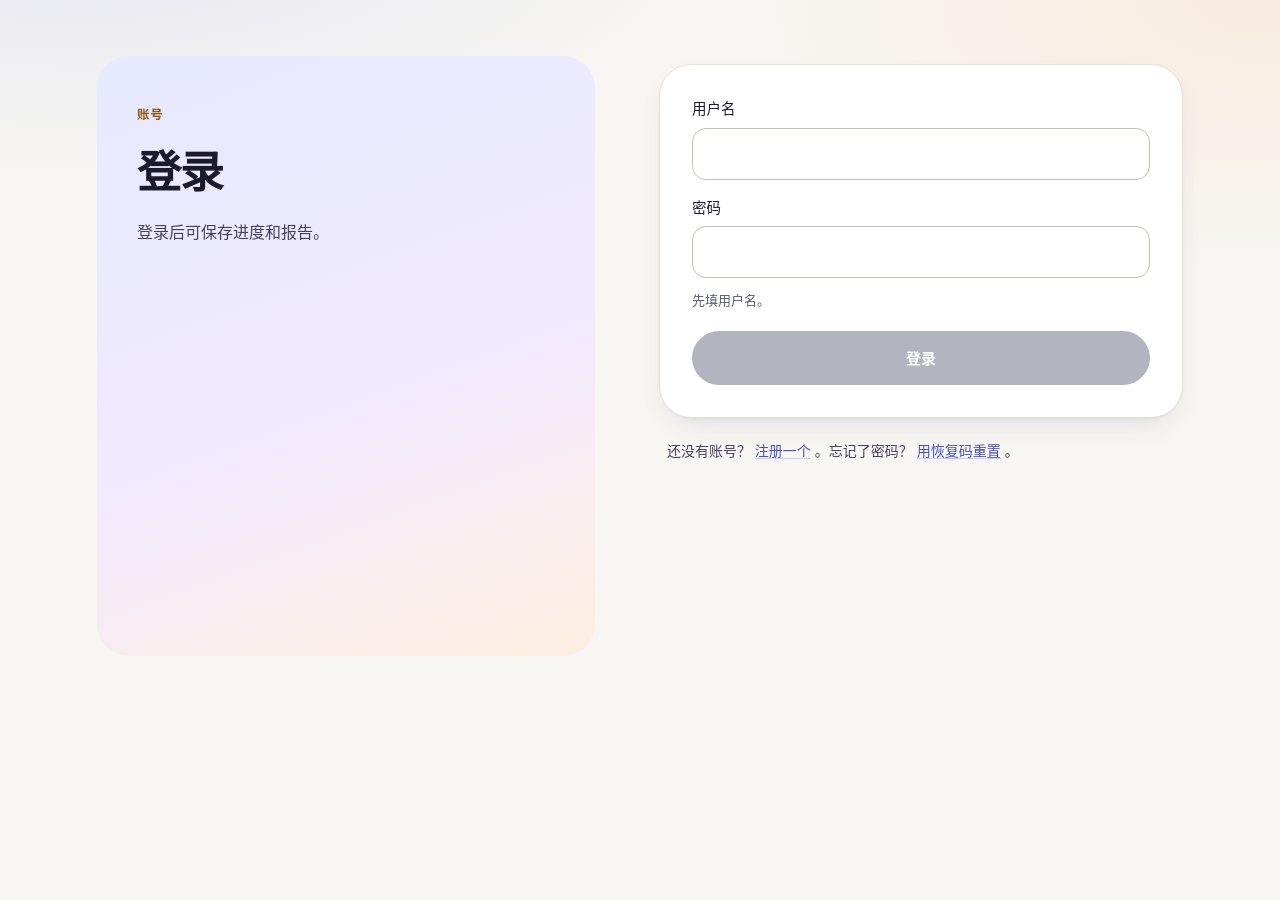
Test: 登录页 / 注册页 · 失败提示可见 › 登录被限流：告诉用户要等多久，而不是毫无反应
In the field named "username": (921, 154) [692,128,1150,180], type "someone"
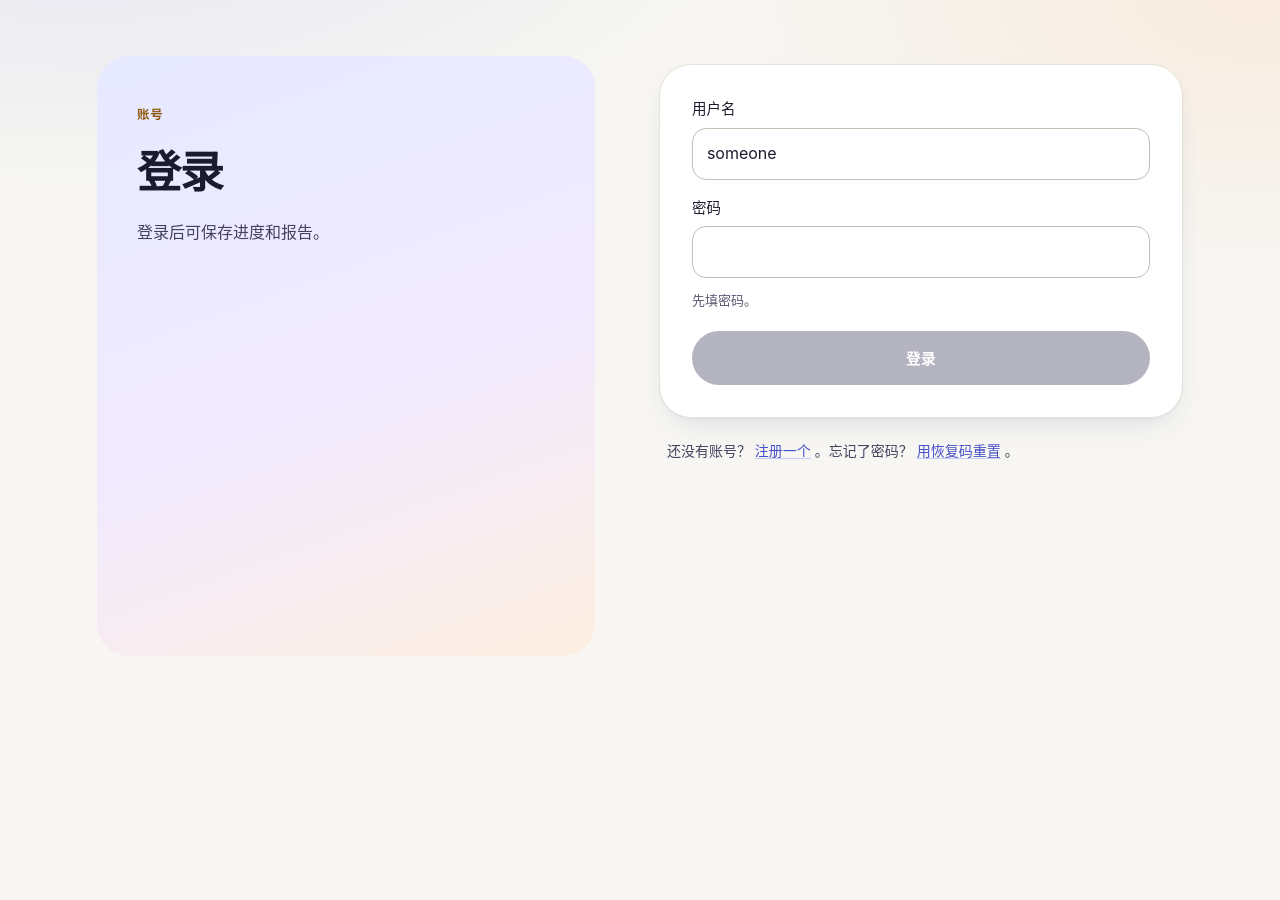
In the password field named "password": (921, 252) [692,226,1150,278], type "whatever-1"
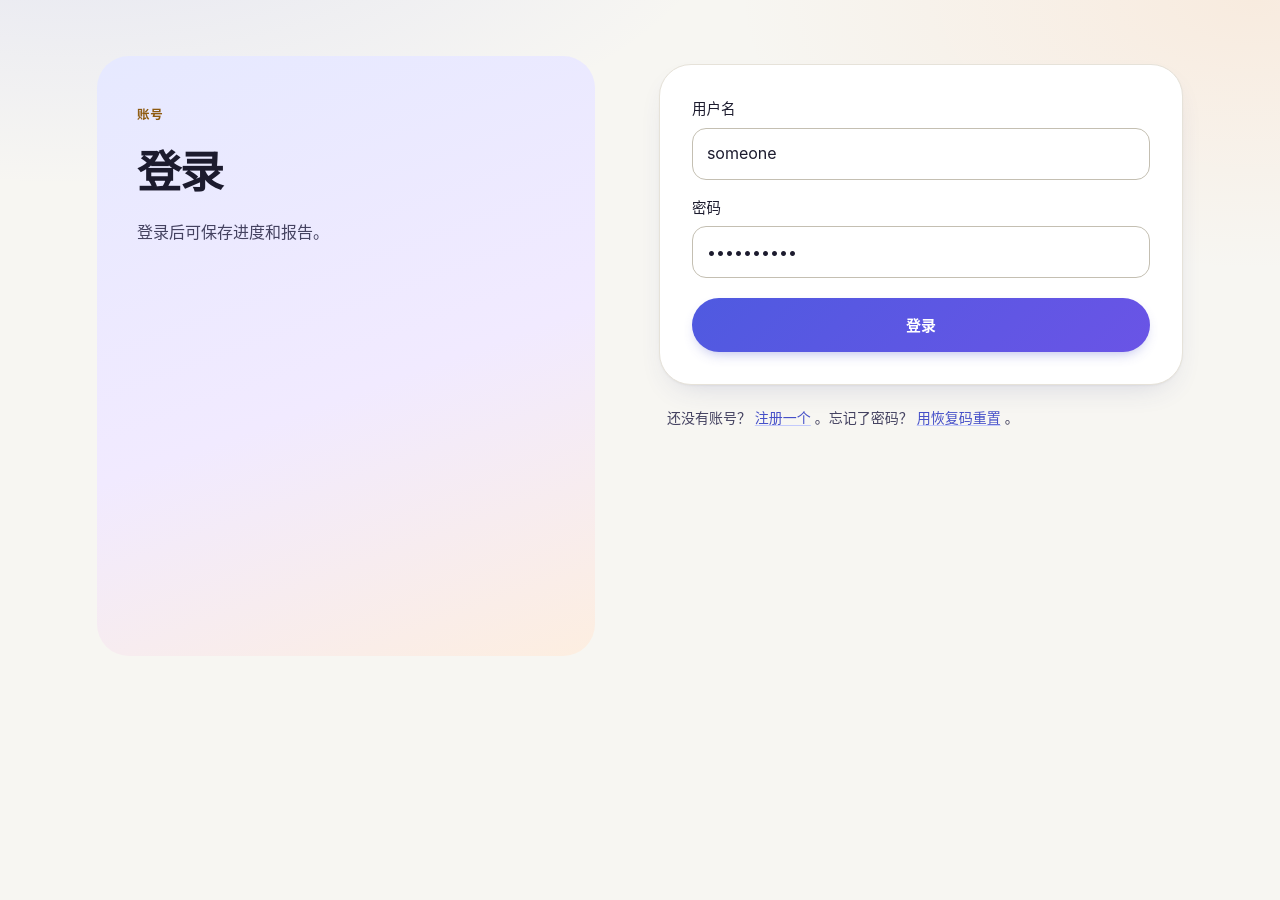
Submit the form, box [659,64,1183,385]
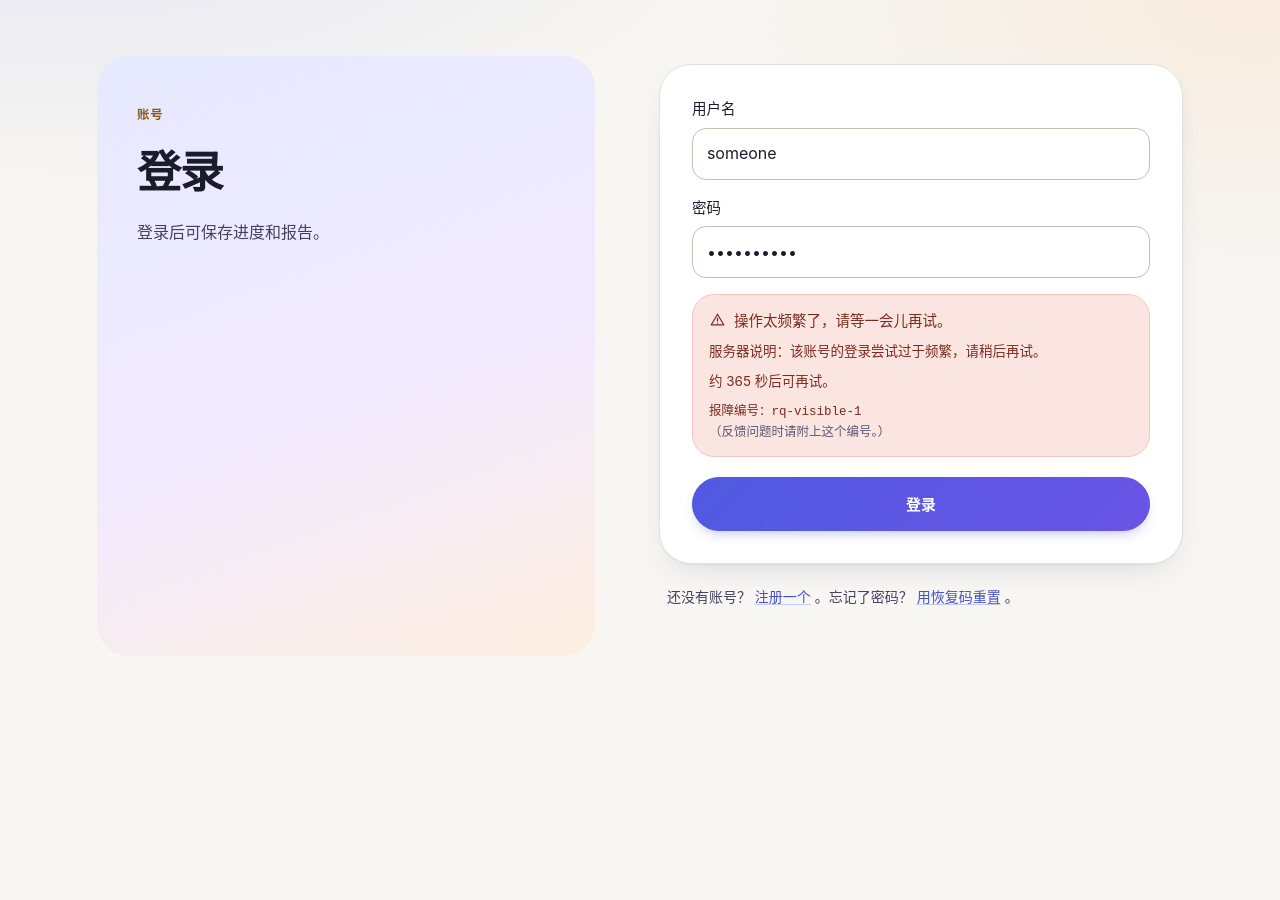
Check: the message shows "太频繁", box [692,294,1150,457]
Check: the message shows "365", box [709,373,836,389]
